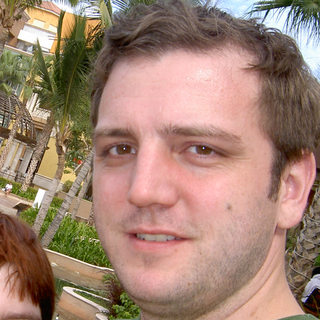eye: (176, 139, 228, 163), (98, 139, 142, 163)
